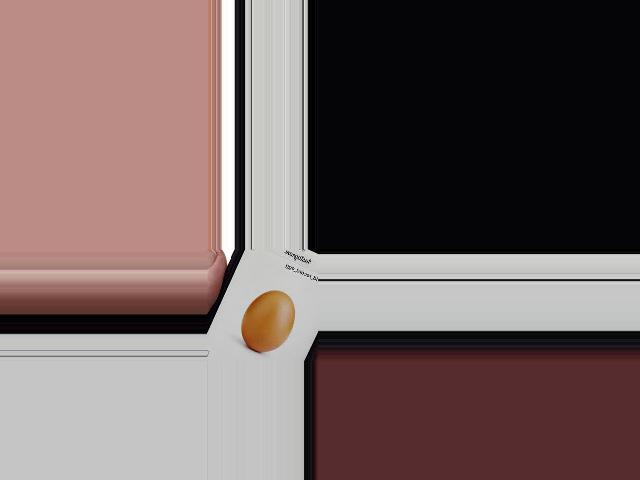egg: (241, 290, 294, 352)
